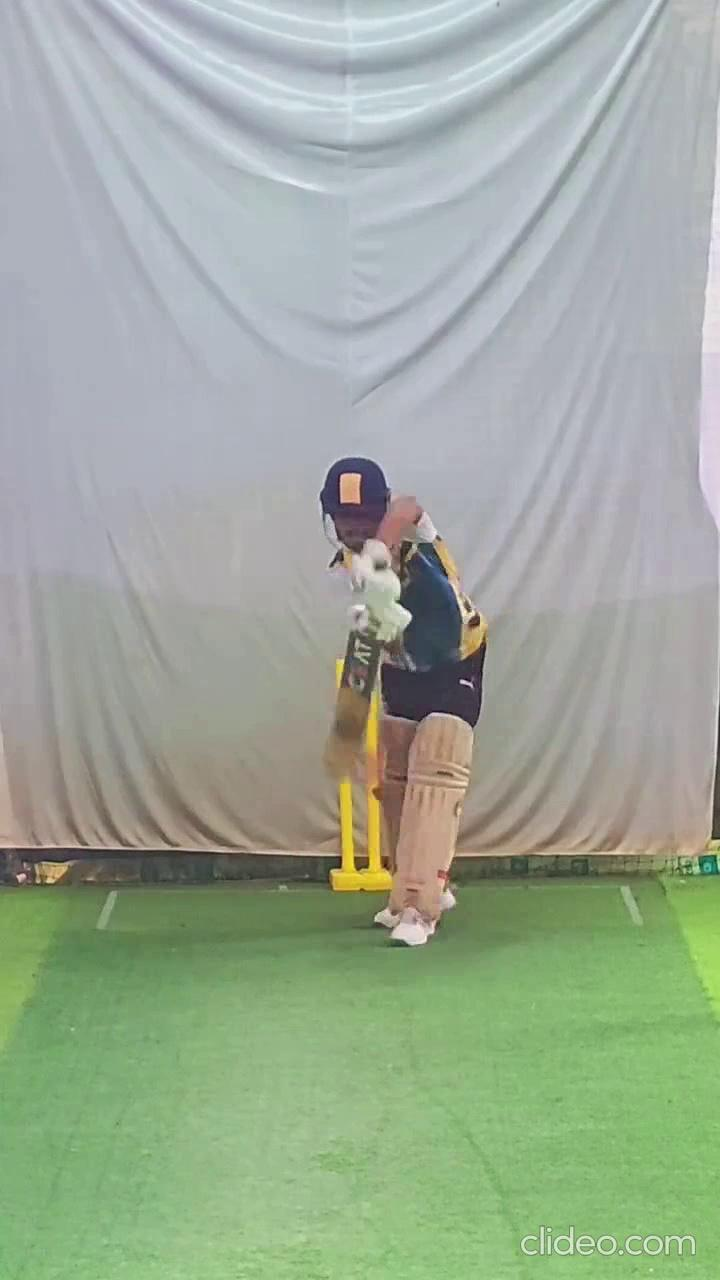bat: (316, 631, 384, 782)
